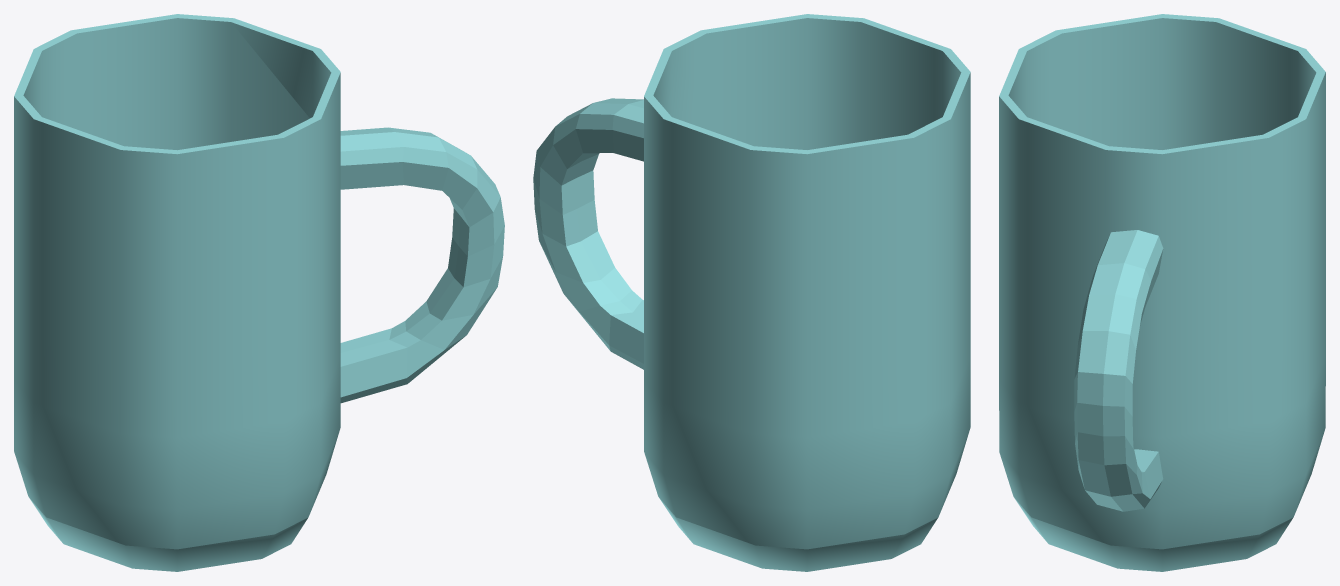
File: tassa1.FBX
3 views of the same model, side by side, from view 1: azimuth 30°, elevation 25°; view 2: azimuth 150°, elevation 25°; view 3: azimuth 270°, elevation 25° (orthographic).
Visible parts, largest first — view 1: Object002; view 2: Object002; view 3: Object002.
Boxes of the visible parts, x1,y1,x2,y2 form: Object002: (14, 14, 504, 571); Object002: (533, 14, 970, 571); Object002: (999, 14, 1325, 571).
Bounding box in the file's own units: 3.17 × 3.01 × 2.06.
